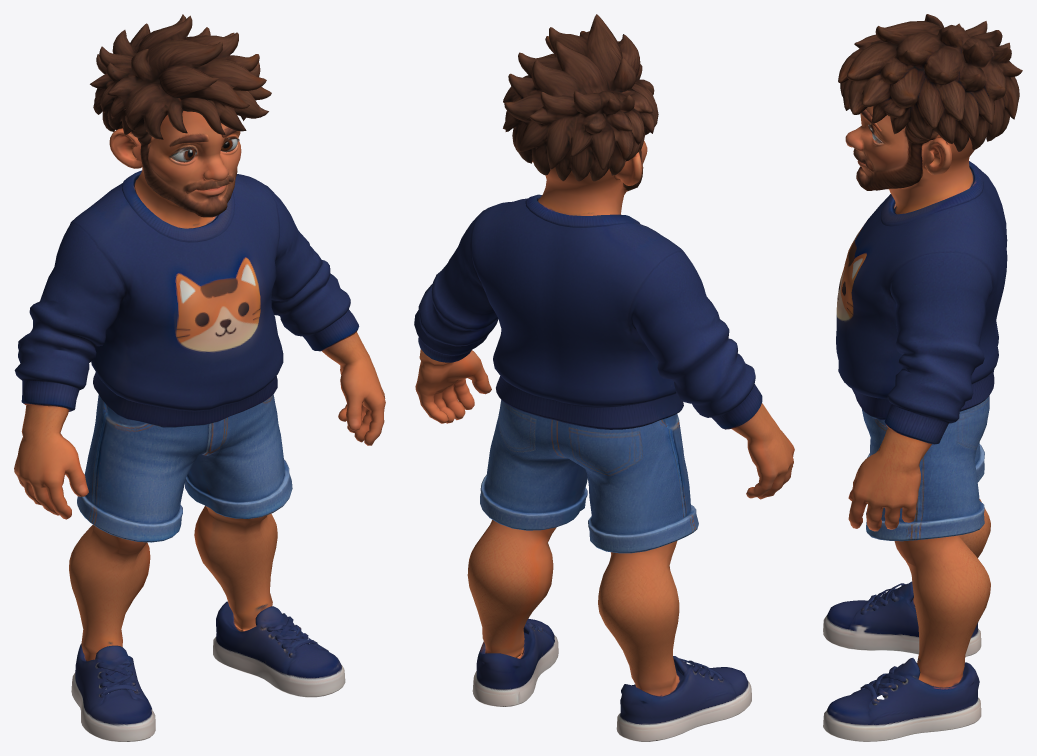
Rendered from cartoon man 3d model.glb.
The picture shows the model from 3 angles, left to right: view 1: azimuth 30°, elevation 25°; view 2: azimuth 150°, elevation 25°; view 3: azimuth 270°, elevation 25°; orthographic projection. The views are drawn at different scales.
Parts seen in each view (by area): view 1: tripo_33db3c23_76ab_4847_8916_6db42989ee78; view 2: tripo_33db3c23_76ab_4847_8916_6db42989ee78; view 3: tripo_33db3c23_76ab_4847_8916_6db42989ee78.
Part boxes in pixels (x1,y1,x2,y2): tripo_33db3c23_76ab_4847_8916_6db42989ee78: (14, 14, 385, 741); tripo_33db3c23_76ab_4847_8916_6db42989ee78: (414, 14, 794, 741); tripo_33db3c23_76ab_4847_8916_6db42989ee78: (823, 14, 1022, 741).
Size of the model in its own units: 0.5747 by 0.9995 by 0.2729.
1 material, 1 textured.
